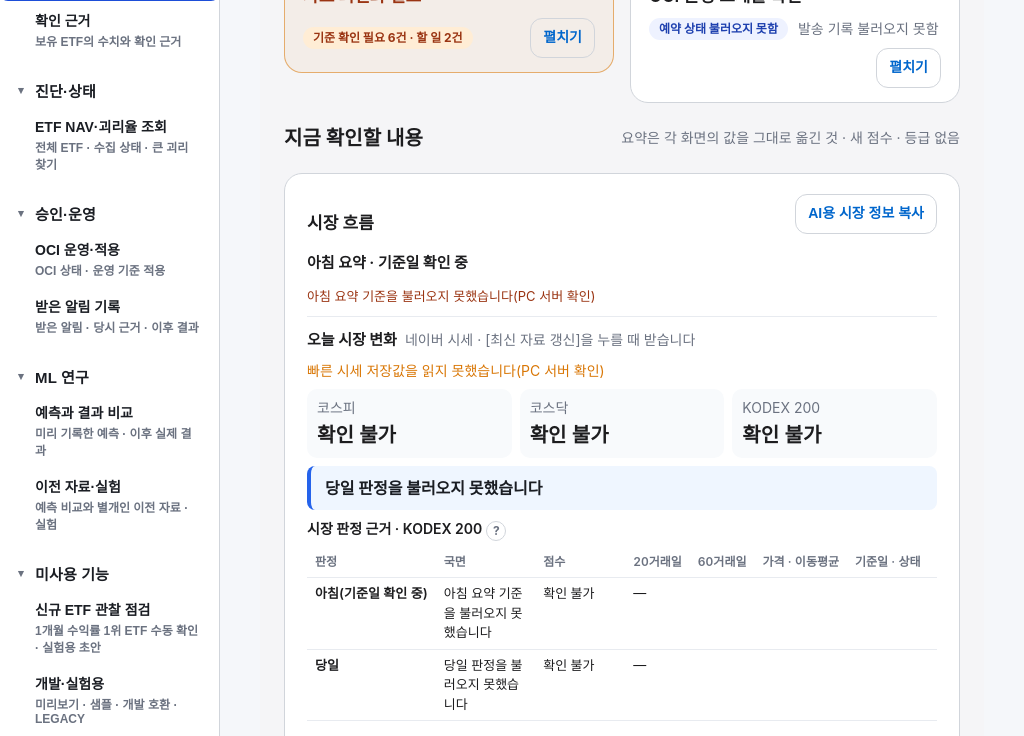
Scenario: POC6-32 V2 — 「자세히」 [「보유와 후보 비교」로] = 상세 · 돌아오면 이 페이지 그대로 › 상세 위 [← 보낸 화면으로] · 강조 = 「신규 ETF 관찰 점검」 · 돌아오면 펼친 「자세히」 유지 · 갱신 요청 0
(page scrolled)
Click the button "신규 ETF 관찰 점검" at (110, 627), box [0, 590, 219, 664]
(page scrolled)
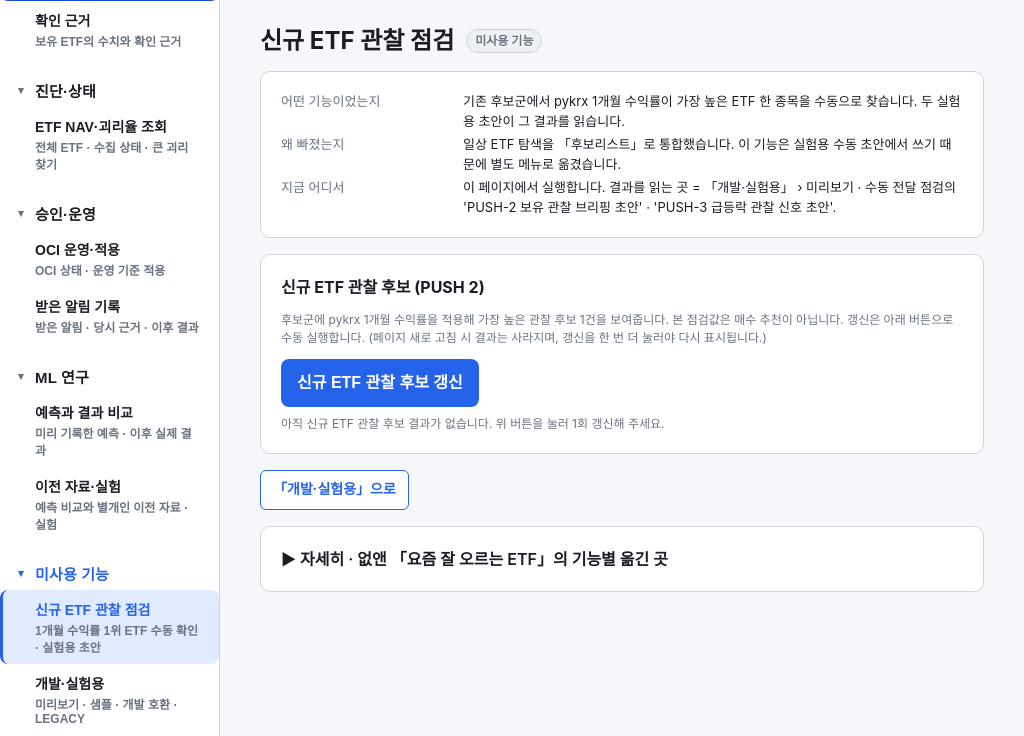
Expected: the heading "신규 ETF 관찰 점검" is shown, [260, 23, 454, 59]
Click the heading "자세히 · 없앤 「요즘 잘 오르는 ETF」의 기능별 옮긴 곳" at (484, 559), box [300, 549, 668, 569]
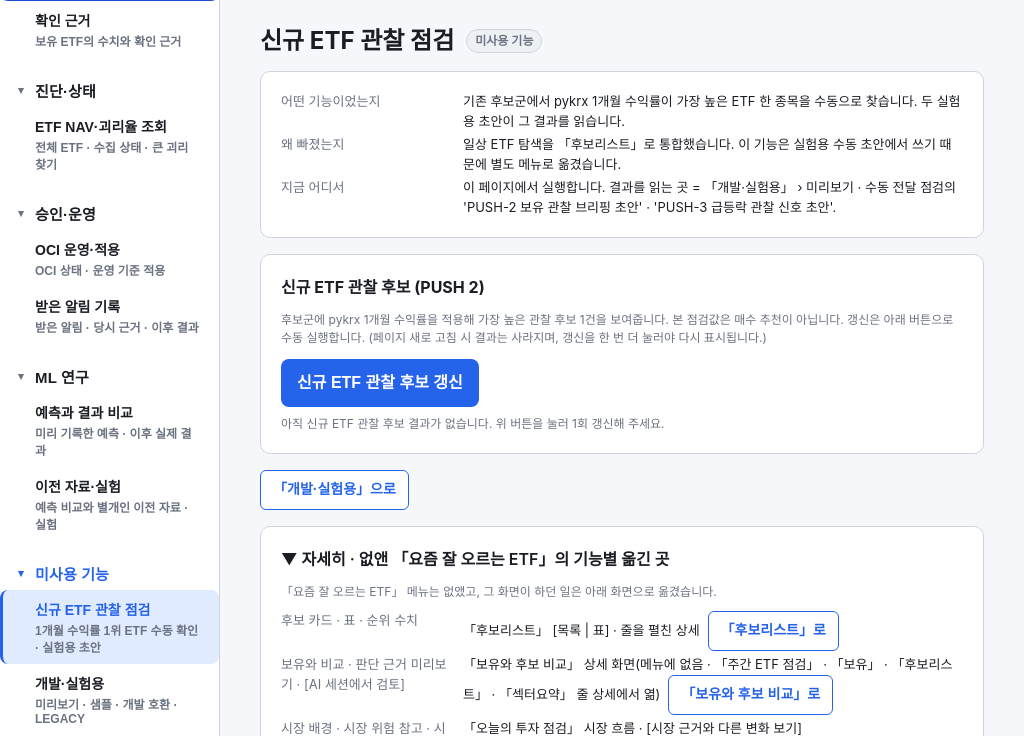
Click the button "「보유와 후보 비교」로" at (751, 694), box [668, 674, 833, 714]
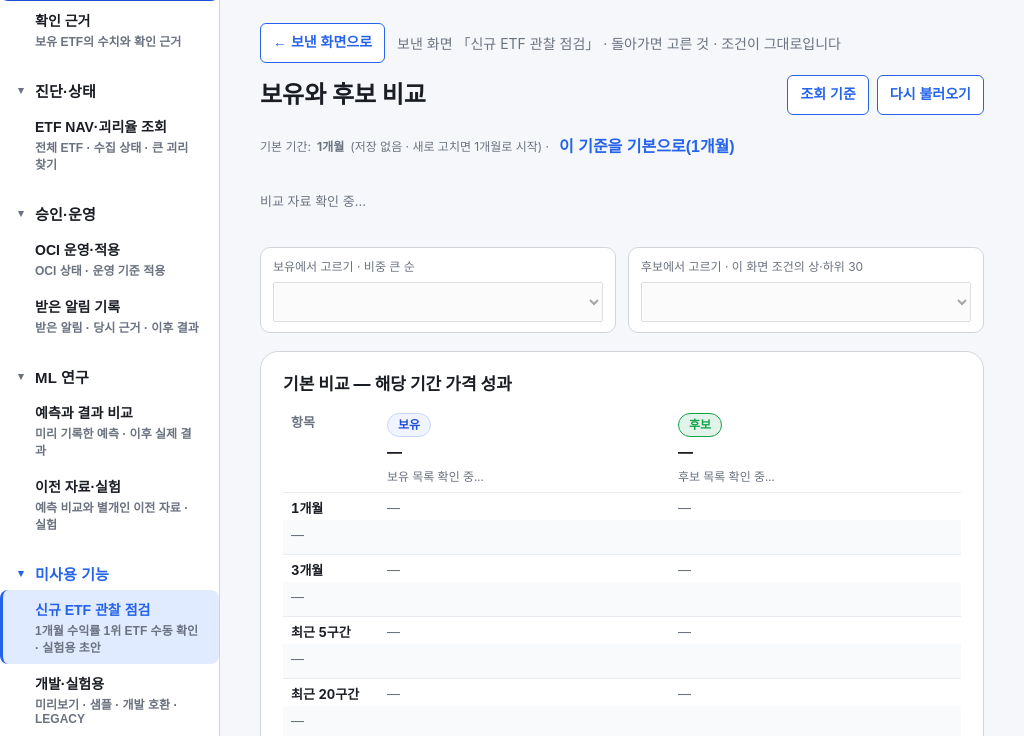
Expected: the button "신규 ETF 관찰 점검 1개월 수익률 1위 ETF 수동 확인 · 실험용 초안" is shown, [0, 590, 219, 664]
Expected: the heading "보유와 후보 비교" is shown, [260, 77, 426, 113]
Expected: the navigation bar with test id "dn-back" shows "보낸 화면 「신규 ETF 관찰 점검」", [260, 23, 841, 63]
Click the button "← 보낸 화면으로" at (323, 43), box [260, 23, 385, 63]
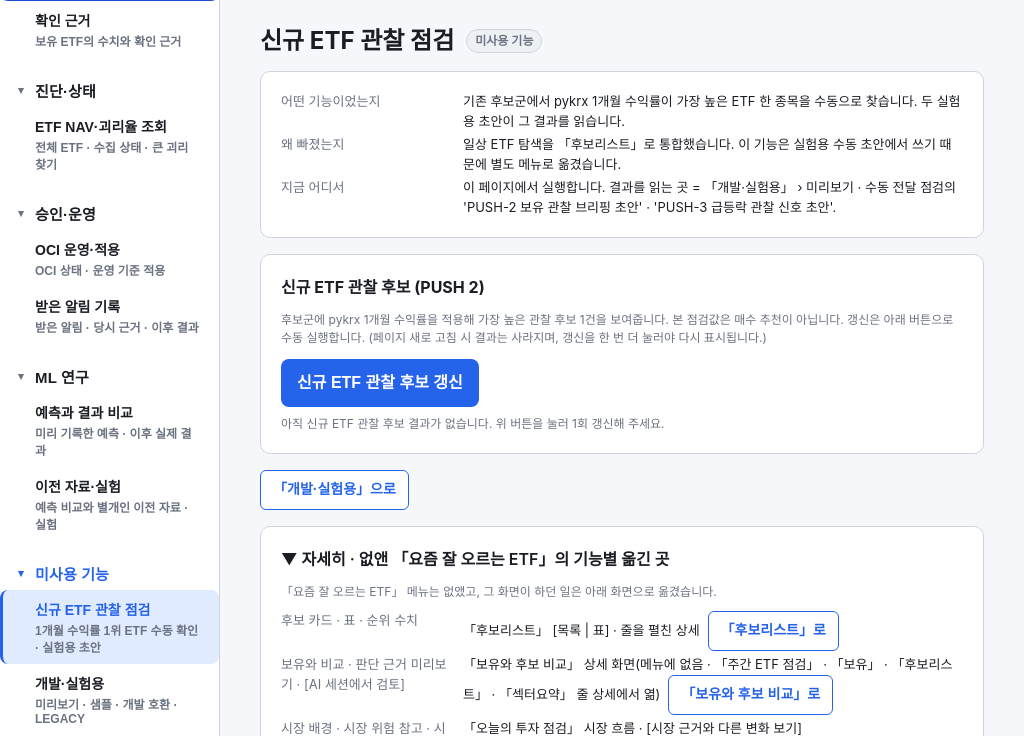
Expected: the heading "신규 ETF 관찰 점검" is shown, [260, 23, 454, 59]
Expected: the navigation bar with test id "dn-back" is gone
